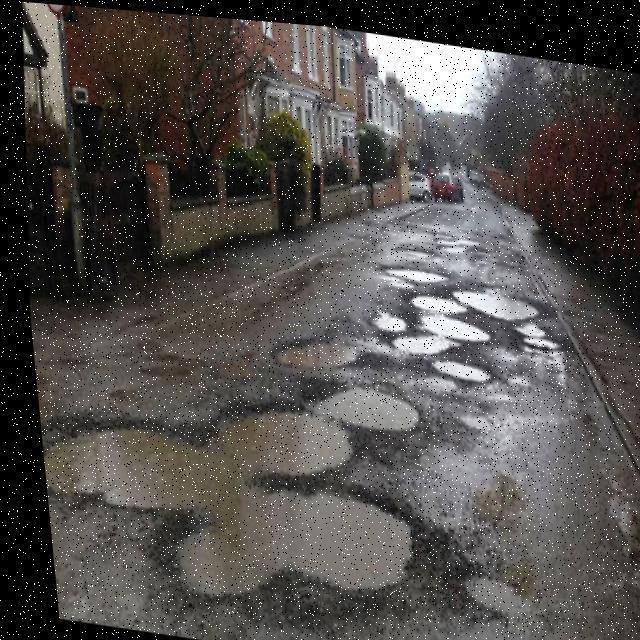Pothole: (40, 380, 420, 607), (392, 292, 488, 353), (269, 336, 356, 374), (455, 287, 541, 320), (382, 264, 449, 287), (432, 359, 490, 381), (372, 310, 408, 334)
